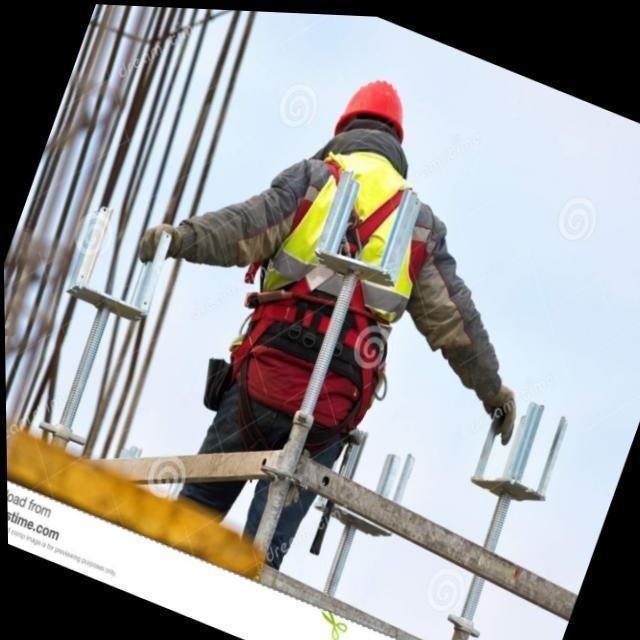Arnes_seguridad: (250, 163, 430, 425)
